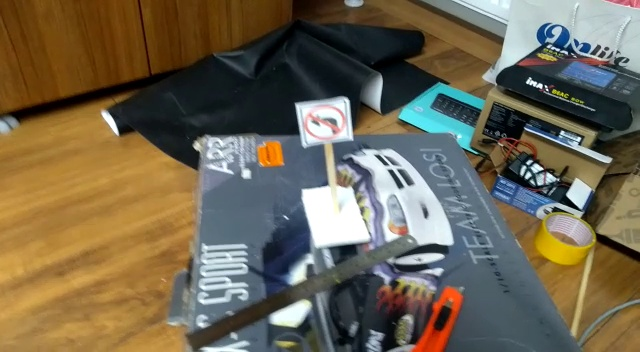sola_donulmez: (303, 99, 350, 140)
